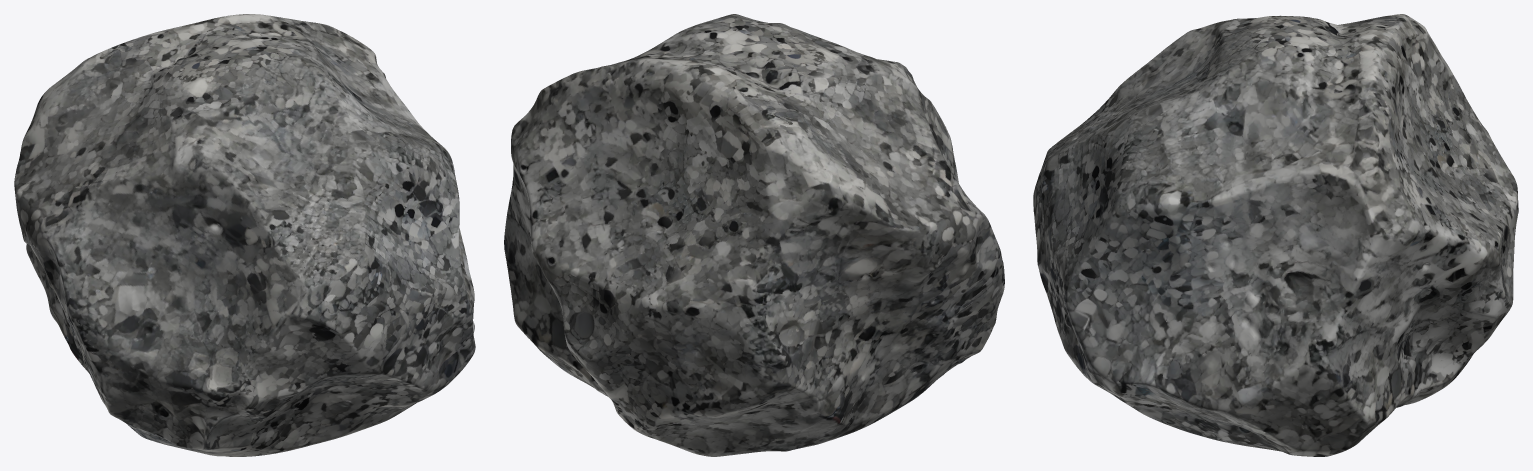
File: nature-rock-granite.glb
3 renders of one model, left to right at view 1: azimuth 30°, elevation 25°; view 2: azimuth 150°, elevation 25°; view 3: azimuth 270°, elevation 25°, orthographic. The views are drawn at different scales.
Parts seen in each view (by area): view 1: tripo_node_614d930b-955c-4b8d-8da4-f57521efddc8; view 2: tripo_node_614d930b-955c-4b8d-8da4-f57521efddc8; view 3: tripo_node_614d930b-955c-4b8d-8da4-f57521efddc8.
Boxes of the visible parts, x1,y1,x2,y2 form: tripo_node_614d930b-955c-4b8d-8da4-f57521efddc8: (14,14,475,456); tripo_node_614d930b-955c-4b8d-8da4-f57521efddc8: (504,14,1004,456); tripo_node_614d930b-955c-4b8d-8da4-f57521efddc8: (1033,14,1518,456).
Size of the model in its own units: 2.46 by 2 by 2.38.
Materials: 1 (1 with a texture image).
